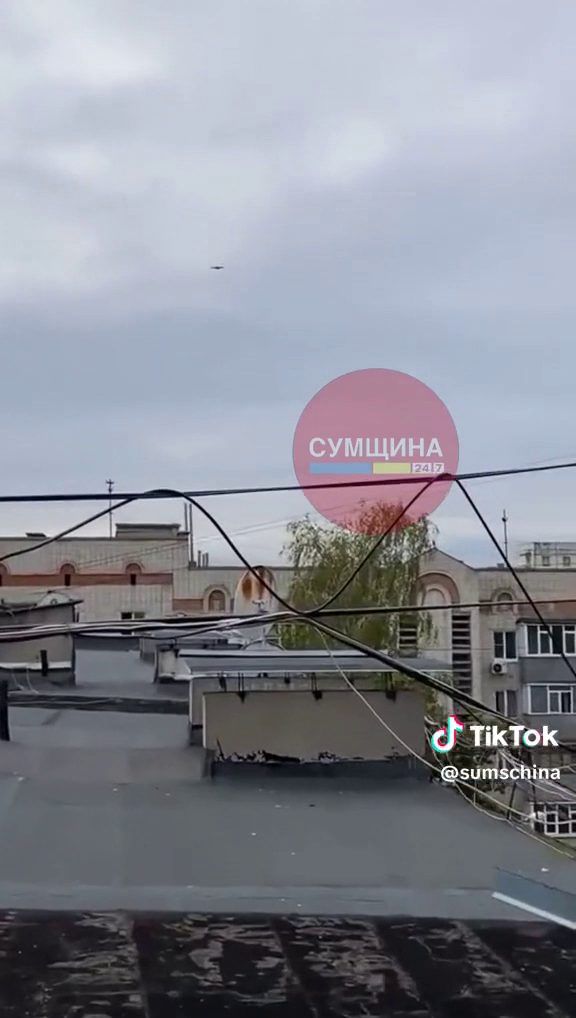shahed: (210, 265, 224, 271)
